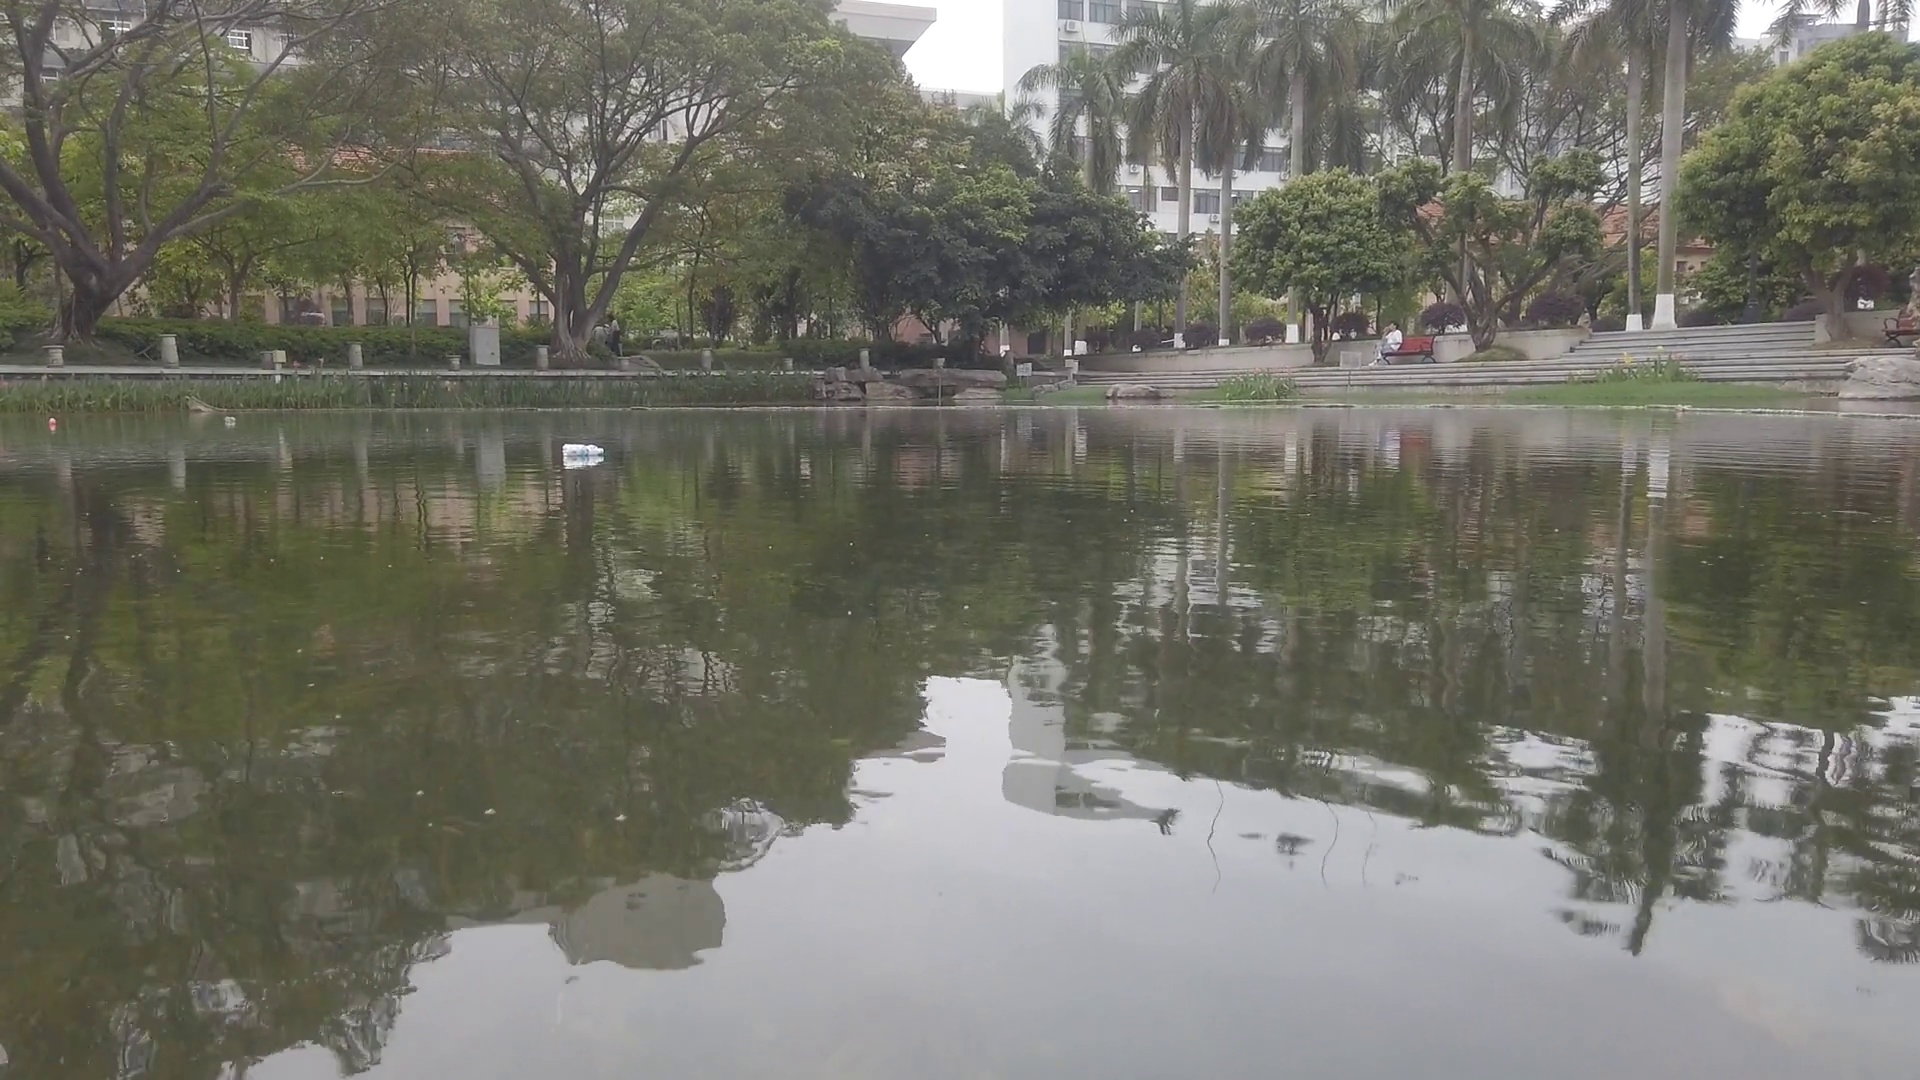bottle: (560, 442, 607, 462), (47, 415, 61, 433), (225, 414, 236, 425)
